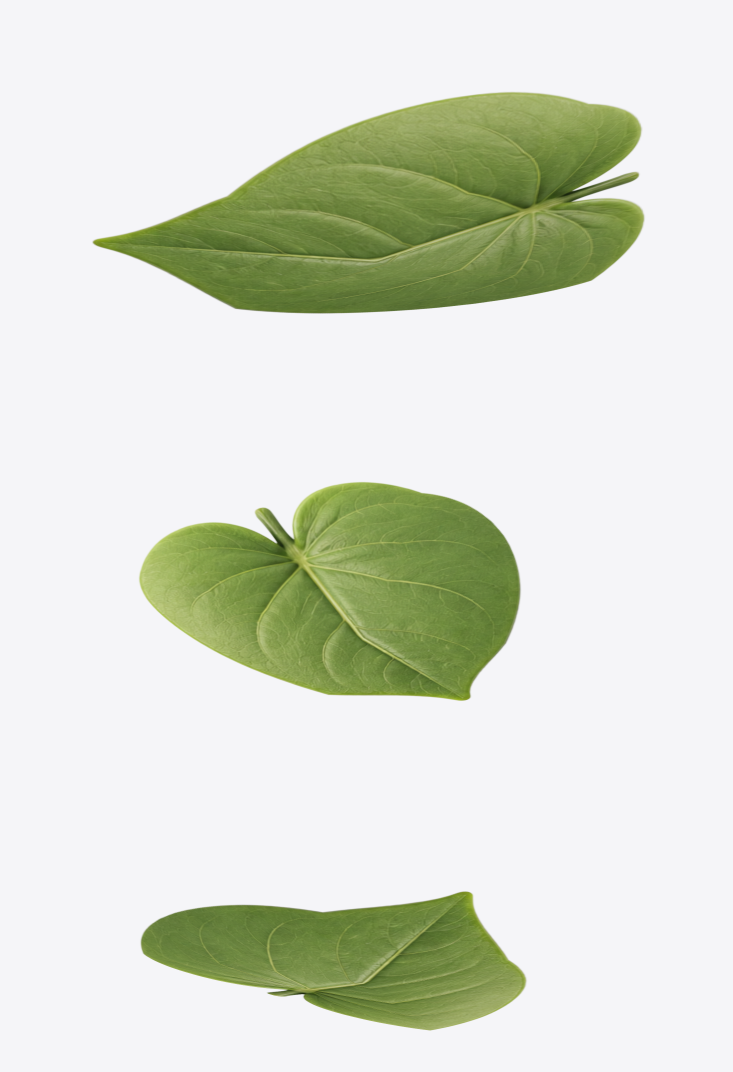
The model's file is hoja01.glb.
3 views of the same model, one above another, from view 1: azimuth 30°, elevation 25°; view 2: azimuth 150°, elevation 25°; view 3: azimuth 270°, elevation 25° (orthographic). The views are drawn at different scales.
Parts seen in each view (by area): view 1: Object_2; view 2: Object_2; view 3: Object_2.
Boxes of the visible parts, x1=… form: Object_2: x1=92, y1=91, x2=644, y2=313; Object_2: x1=138, y1=481, x2=520, y2=700; Object_2: x1=140, y1=891, x2=526, y2=1030.
Bounding box in the file's own units: 0.4766 × 0.0638 × 0.4759.
1 material, 1 textured.
